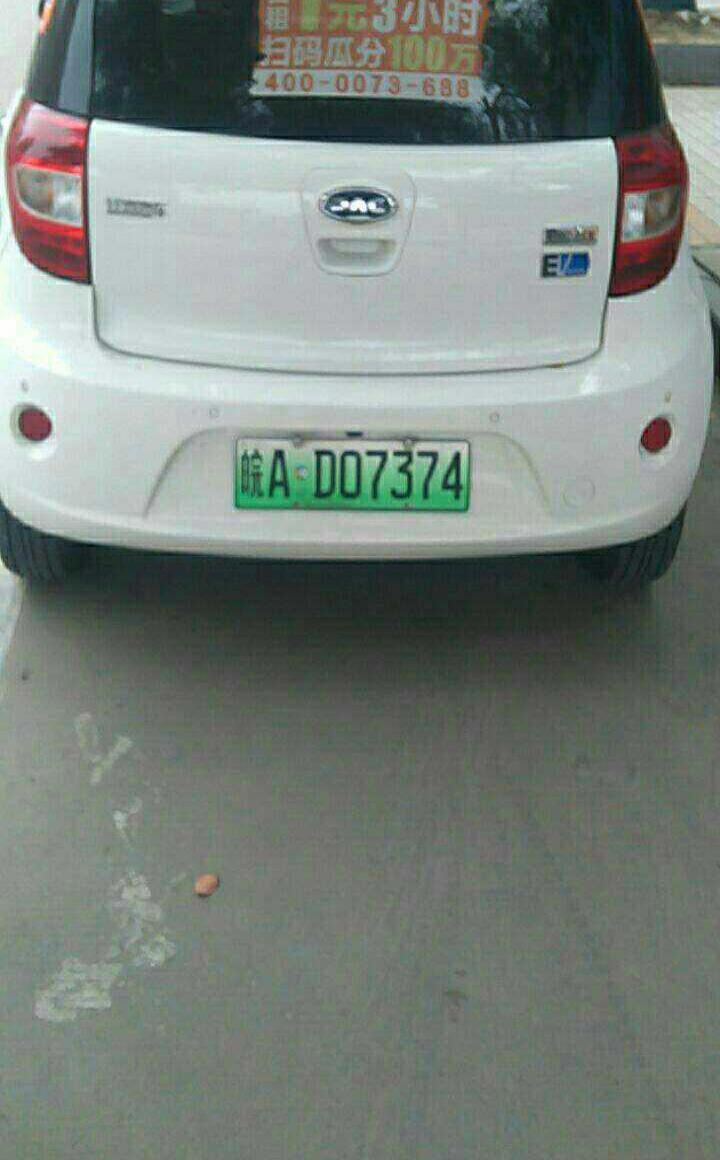car_green: (234, 439, 469, 509)
